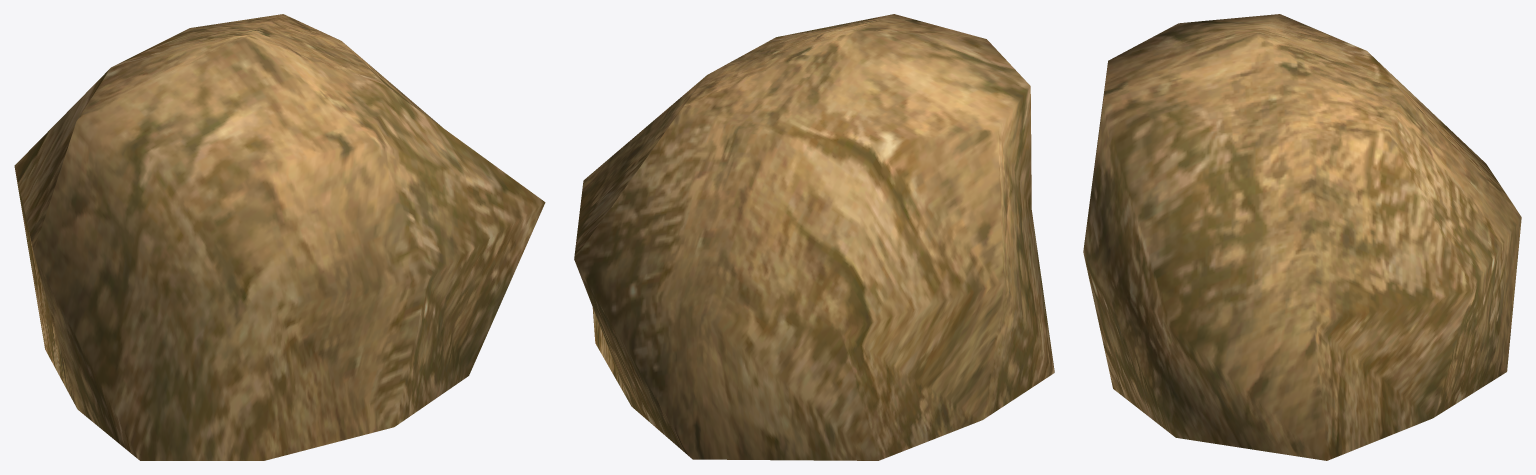
The model's file is M5_Rock_Big03.glb.
The picture shows the model from 3 angles, left to right: view 1: azimuth 30°, elevation 25°; view 2: azimuth 150°, elevation 25°; view 3: azimuth 270°, elevation 25°; orthographic projection. The views are drawn at different scales.
Visible parts, largest first — view 1: M5_ROCK_BIG03; view 2: M5_ROCK_BIG03; view 3: M5_ROCK_BIG03.
Part boxes in pixels (x1,y1,x2,y2): M5_ROCK_BIG03: (14,14,545,460); M5_ROCK_BIG03: (574,14,1054,460); M5_ROCK_BIG03: (1083,14,1521,460).
Bounding box in the file's own units: 5.86 × 4.5 × 5.54.
1 material, 1 textured.
